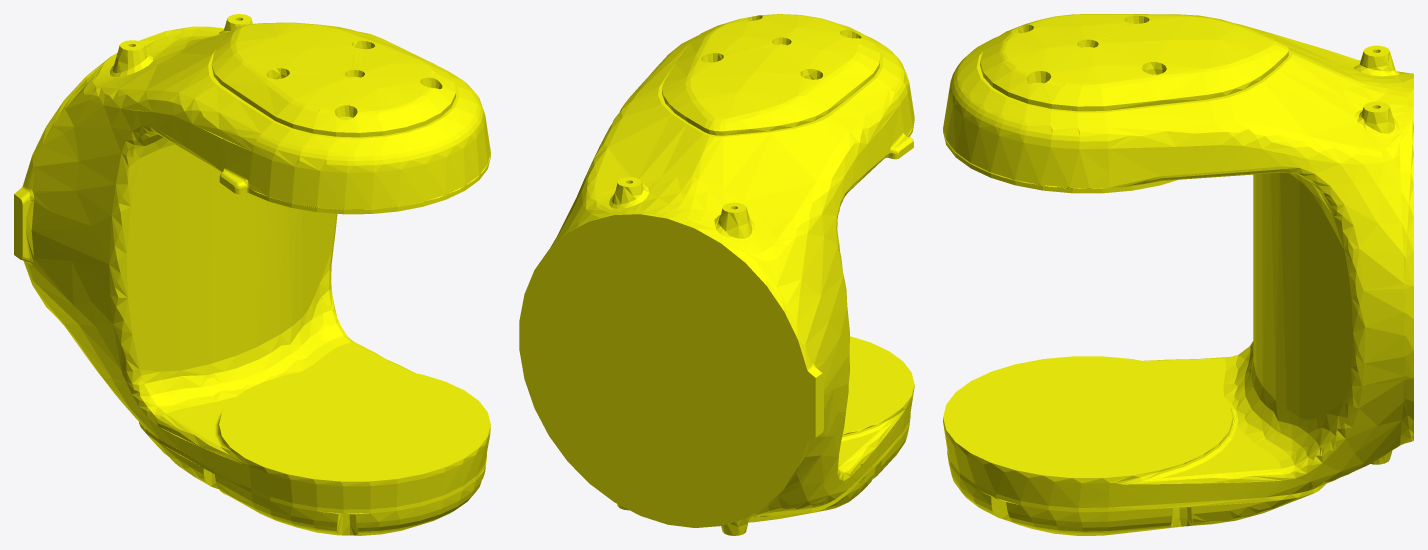
The picture shows the model from 3 angles, left to right: view 1: azimuth 30°, elevation 25°; view 2: azimuth 150°, elevation 25°; view 3: azimuth 270°, elevation 25°; orthographic projection. The views are drawn at different scales.
Visible parts, largest first — view 1: node; view 2: node; view 3: node.
Boxes of the visible parts, <box> form: node: <box>14,14,490,535</box>; node: <box>519,14,914,535</box>; node: <box>943,14,1413,535</box>.
Size of the model in its own units: 228 by 307 by 285.
